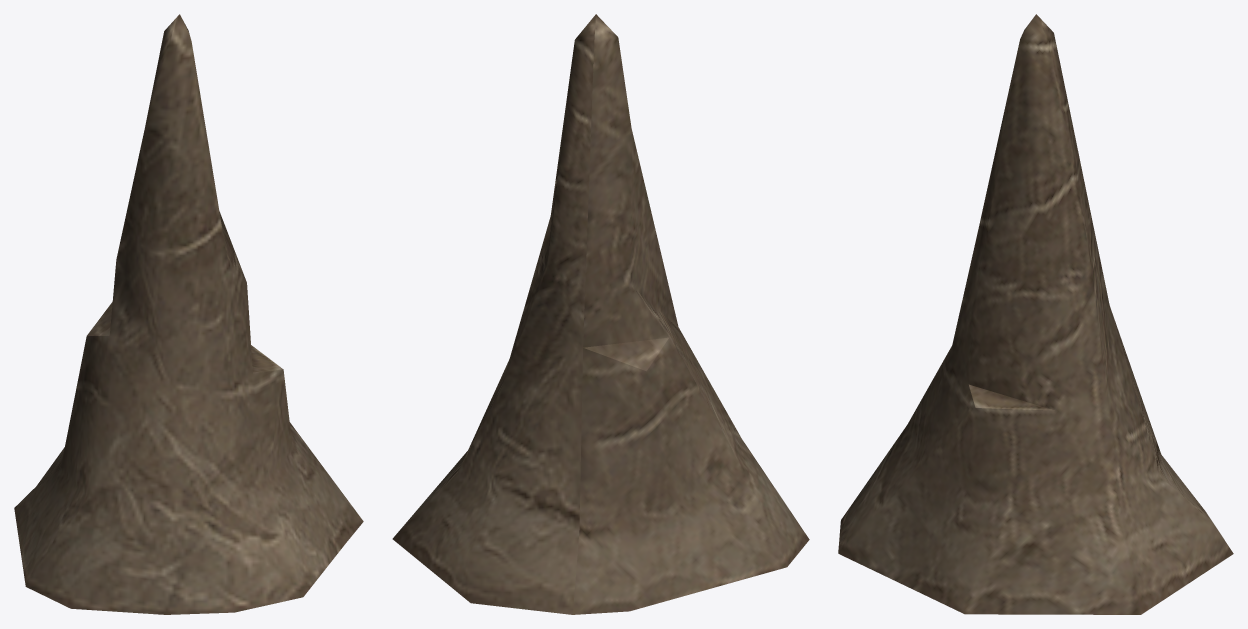
Rendered from environment_stone_shanti_004_d.FBX.
3 views of the same model, side by side, from view 1: azimuth 30°, elevation 25°; view 2: azimuth 150°, elevation 25°; view 3: azimuth 270°, elevation 25° (orthographic).
Parts seen in each view (by area): view 1: environment_stone_shanti_004_d; view 2: environment_stone_shanti_004_d; view 3: environment_stone_shanti_004_d.
Part boxes in pixels (x1,y1,x2,y2): environment_stone_shanti_004_d: (14, 14, 363, 614); environment_stone_shanti_004_d: (392, 14, 809, 614); environment_stone_shanti_004_d: (838, 14, 1233, 614).
Bounding box in the file's own units: 234 × 361 × 246.
